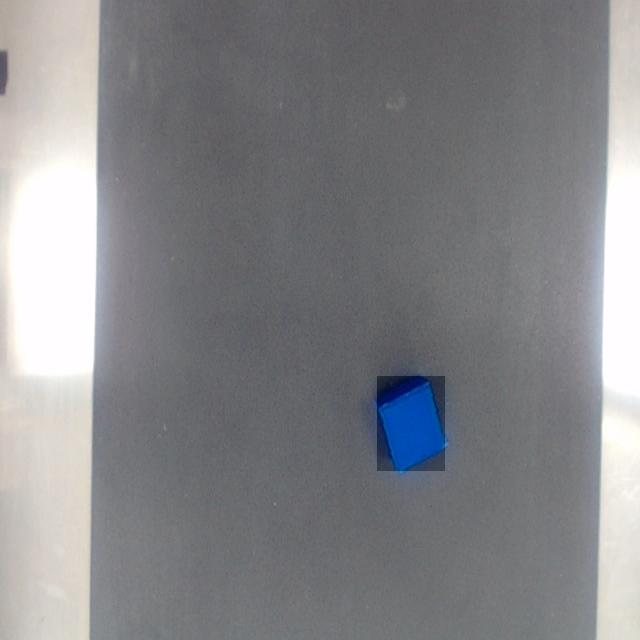Azul: (377, 376, 445, 471)
